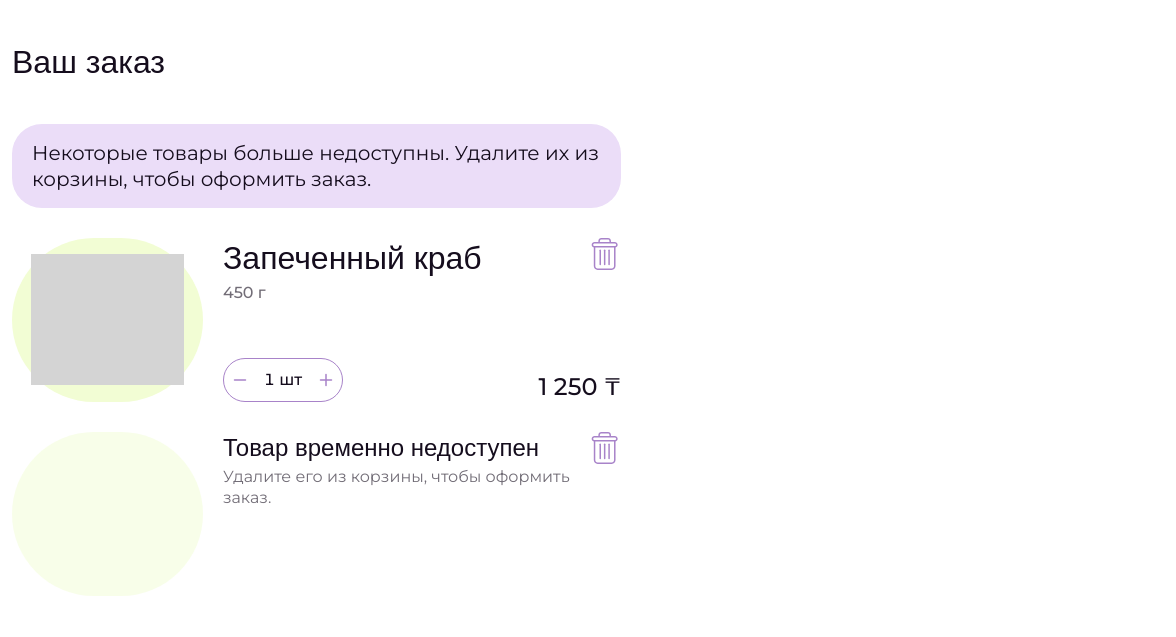
it: CheckoutForm: данные товаров из API › недоступный товар остаётся в списке, блокирует оформление и убирается кнопкой удаления
This screenshot has width=1176, height=637.
(page scrolled)
Expected: the text "Товар временно недоступен" is shown, [223,432,577,463]
Expected: the 1st message shows "больше недоступны", [32,141,599,191]
Step 1. Click the button named "Удалить из корзины: товар временно недоступен" → (605, 448), box [589,432,621,464]
(page scrolled)
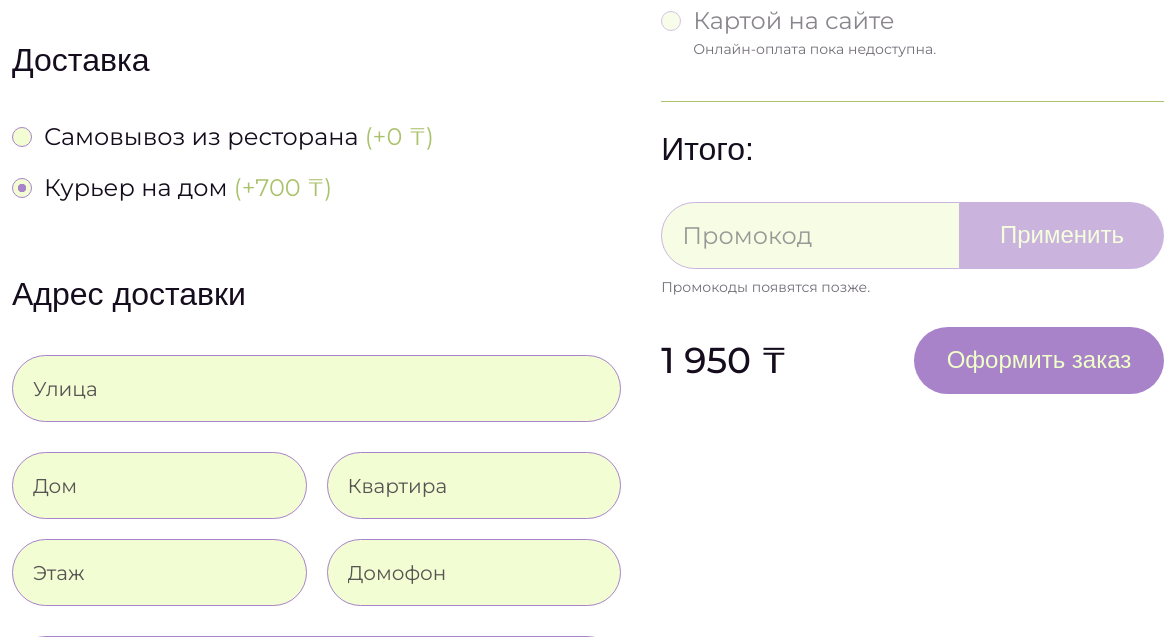
Expected: the button "Оформить заказ" is enabled, [914,327,1164,394]
Expected: the text "Товар временно недоступен" is gone
